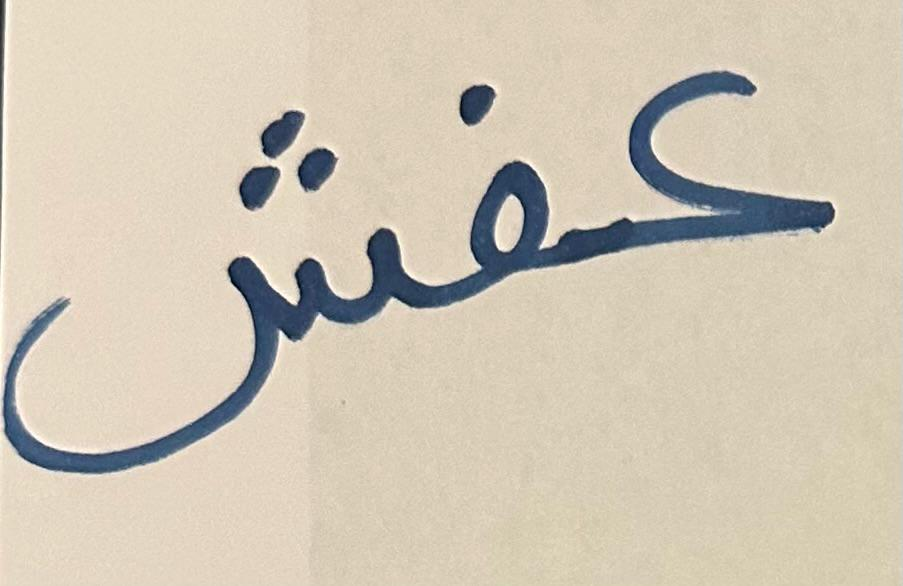ain: (579, 61, 868, 315)
feh: (418, 63, 571, 338)
tah: (3, 96, 412, 496)
